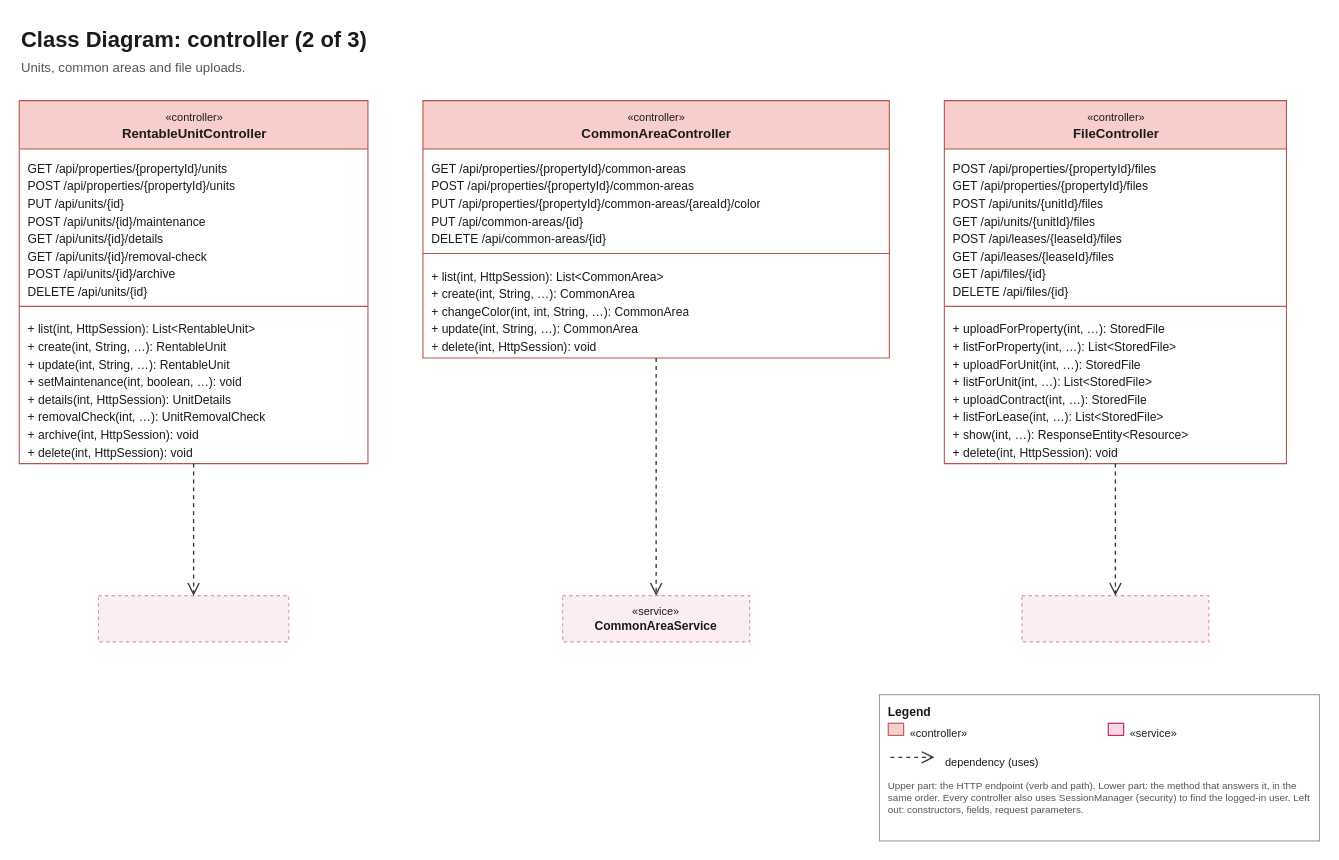
Some shapes in this 1339 by 860 pixel diagram are drawn without their labels. The shapes that lost their labels are listed below. From the top down, each one's centre as x and y in pixels, then its label:
At point (193, 618): "«service» RentableUnitService".
At point (1115, 618): "«service» FileService".
